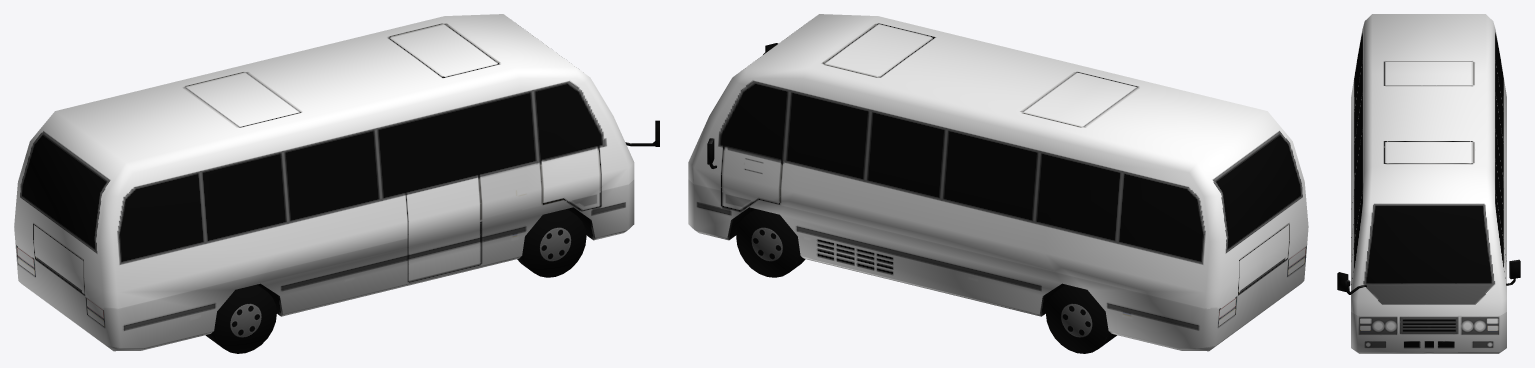
Rendered from Car_MidBus.glb.
3 views of the same model, side by side, from view 1: azimuth 30°, elevation 25°; view 2: azimuth 150°, elevation 25°; view 3: azimuth 270°, elevation 25° (orthographic). The views are drawn at different scales.
Visible parts, largest first — view 1: SM_MildBus_LowPoly; view 2: SM_MildBus_LowPoly; view 3: SM_MildBus_LowPoly.
Part boxes in pixels (left/top/right/bottom): SM_MildBus_LowPoly: left=14, top=14, right=659, bottom=353; SM_MildBus_LowPoly: left=688, top=14, right=1308, bottom=353; SM_MildBus_LowPoly: left=1337, top=14, right=1520, bottom=353.
Size of the model in its own units: 729 by 264 by 261.
Materials: 1 (1 with a texture image).
